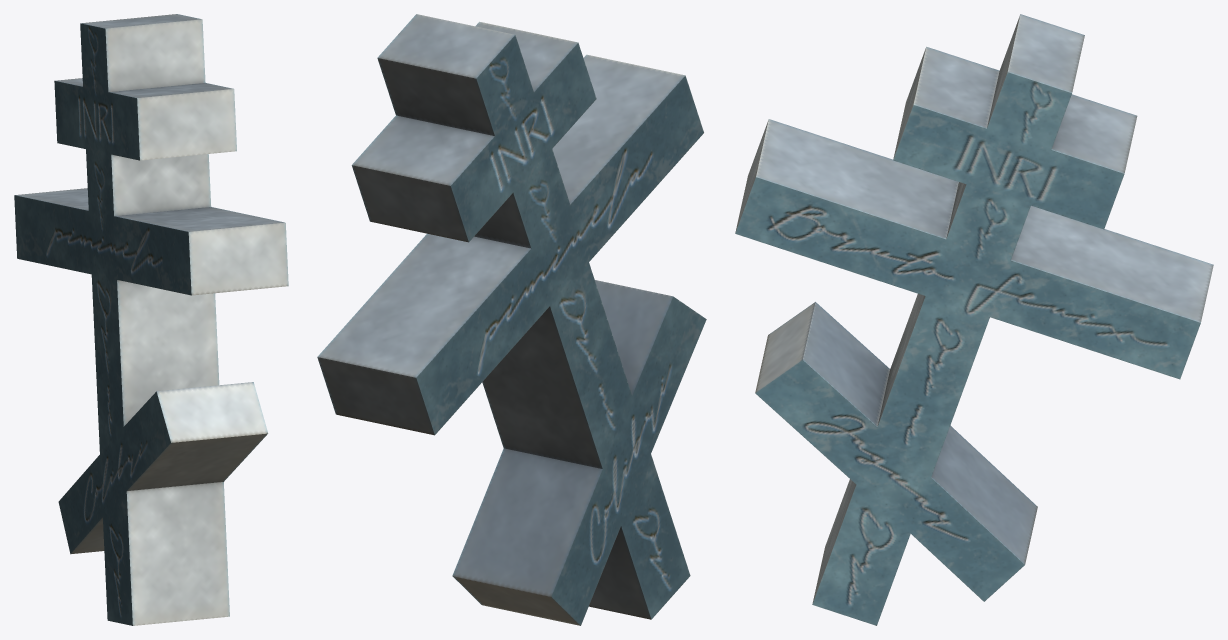
3 views of the same model, side by side, from view 1: azimuth 30°, elevation 25°; view 2: azimuth 150°, elevation 25°; view 3: azimuth 270°, elevation 25° (orthographic). The views are drawn at different scales.
Parts seen in each view (by area): view 1: Cruz_Orto_Cube.011; view 2: Cruz_Orto_Cube.011; view 3: Cruz_Orto_Cube.011.
Part boxes in pixels (x1,y1,x2,y2): Cruz_Orto_Cube.011: (14, 14, 288, 625); Cruz_Orto_Cube.011: (317, 14, 706, 625); Cruz_Orto_Cube.011: (735, 14, 1213, 625).
Size of the model in its own units: 0.817 by 2.69 by 1.97.
